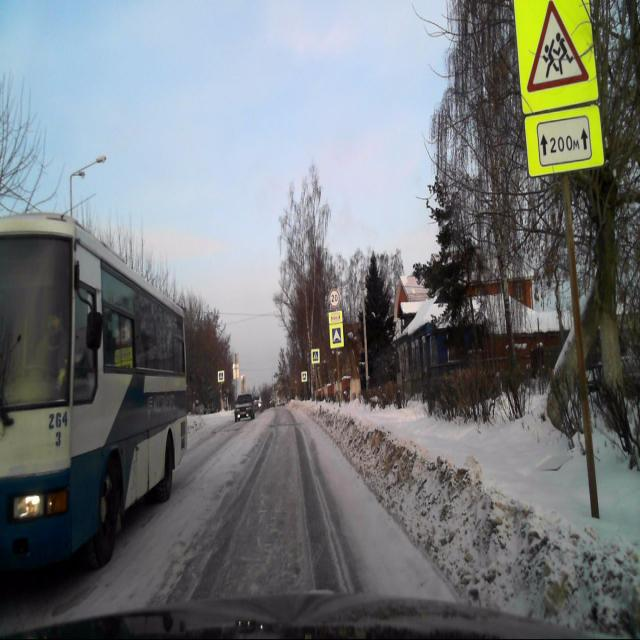road sign: (563, 172, 601, 517), (514, 1, 598, 117), (524, 103, 606, 173), (330, 323, 345, 349), (336, 352, 342, 406), (328, 312, 343, 325), (312, 348, 320, 366), (217, 371, 225, 385), (302, 373, 308, 382)
